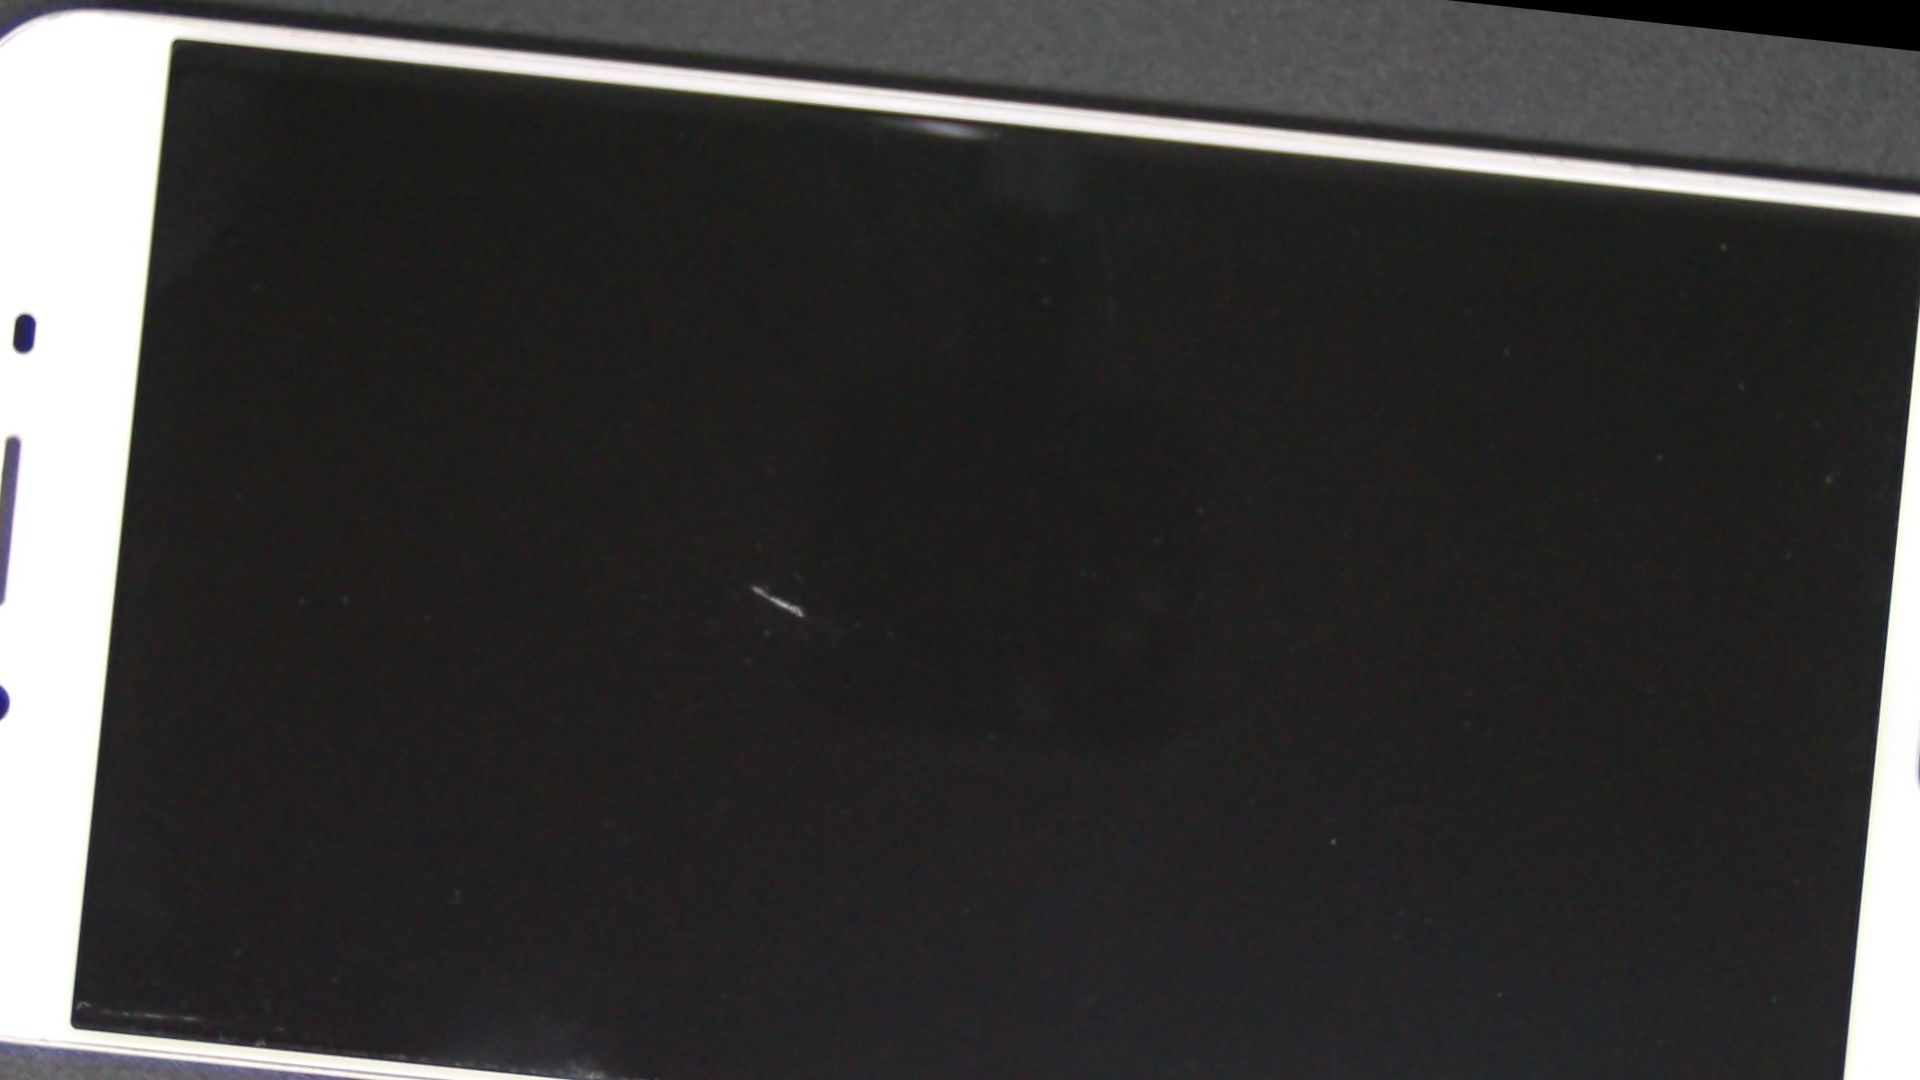oil: (284, 211, 1233, 960)
